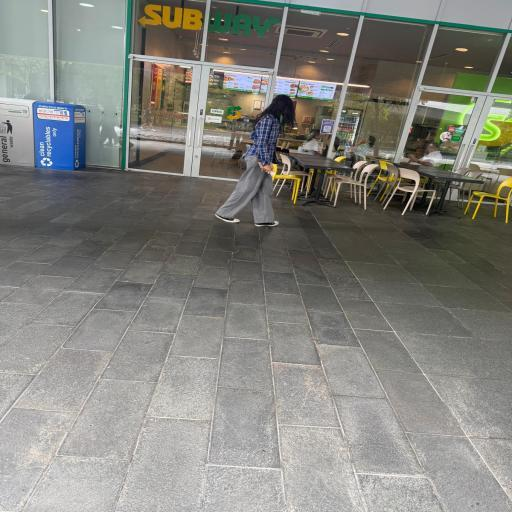person_right: (214, 94, 296, 227)
